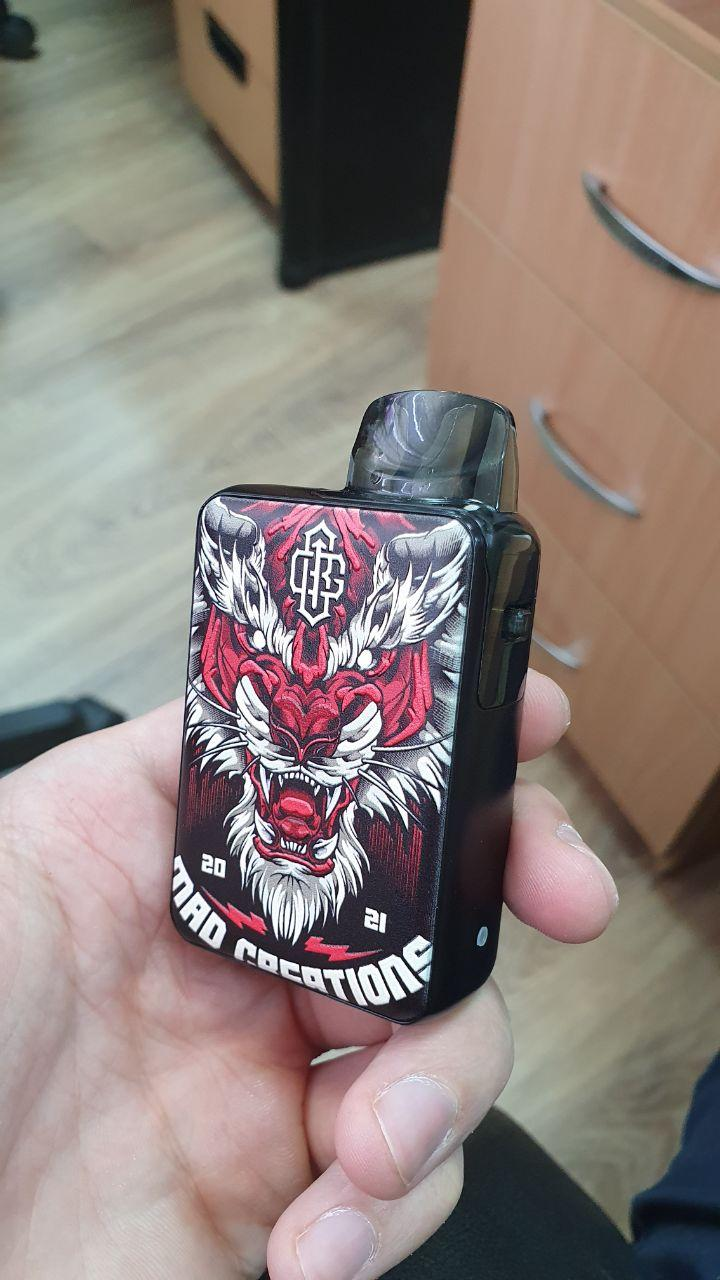Vape: (171, 392, 539, 1024)
